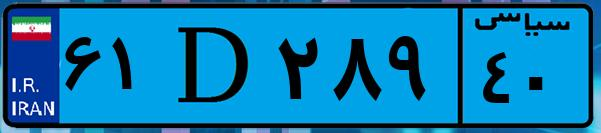0: (525, 38, 570, 115)
1: (110, 28, 158, 98)
2: (270, 28, 330, 110)
4: (475, 38, 525, 113)
6: (57, 26, 110, 100)
8: (330, 28, 385, 110)
9: (385, 28, 445, 110)
D: (158, 12, 270, 120)
